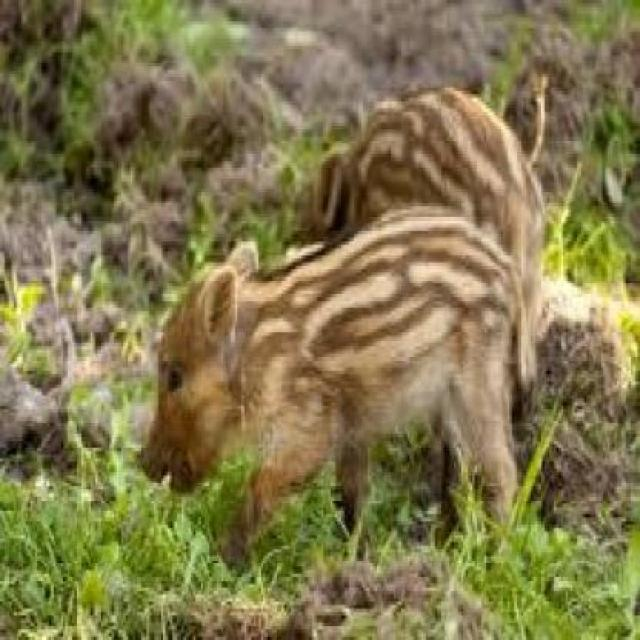Wild Boar: (131, 194, 547, 575), (284, 78, 548, 368)
